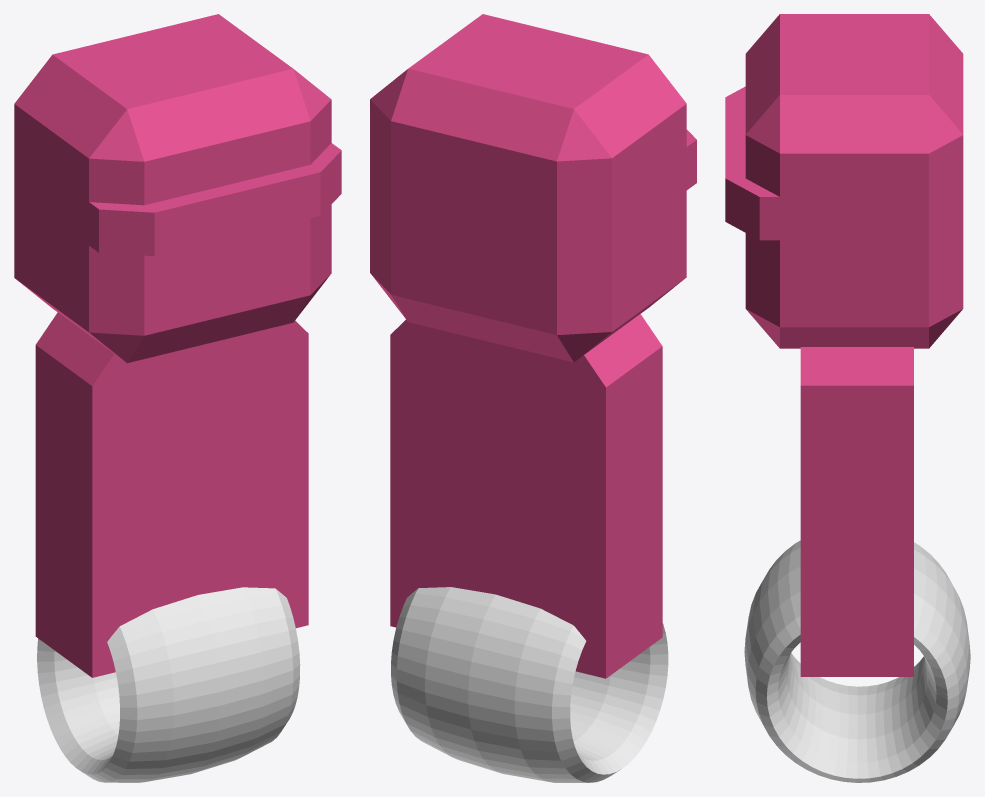
The model's file is character.glb.
3 views of the same model, side by side, from view 1: azimuth 30°, elevation 25°; view 2: azimuth 150°, elevation 25°; view 3: azimuth 270°, elevation 25° (orthographic).
Parts seen in each view (by area): view 1: Head; view 2: Head; view 3: Head.
Part boxes in pixels (x1,y1,x2,y2): Head: (14, 14, 341, 782); Head: (370, 14, 696, 782); Head: (725, 14, 970, 782).
Bounding box in the file's own units: 0.6743 × 1.87 × 0.5916.
